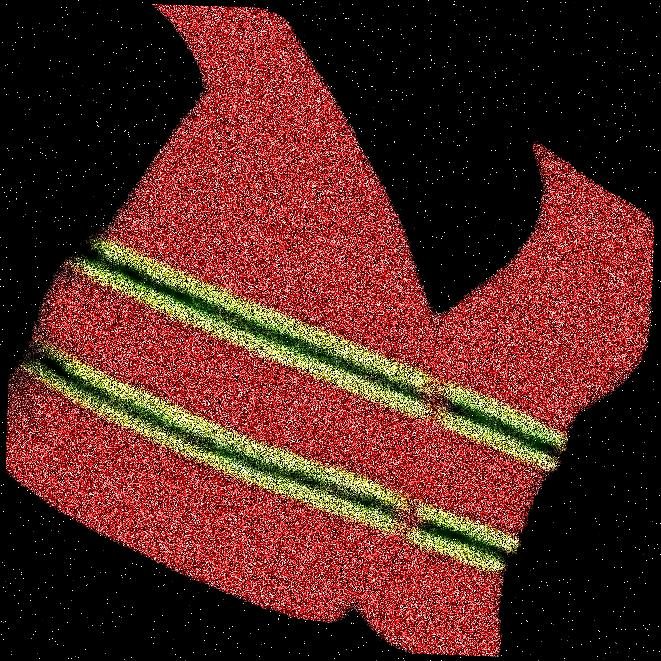Colete: (99, 0, 307, 660)
